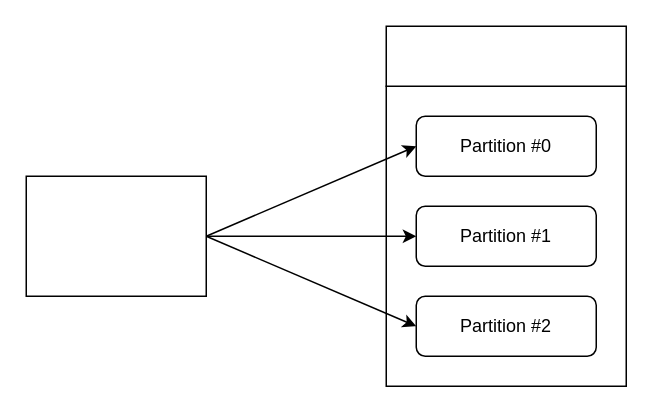
Image size: 653x413. Some labels were removed from this diagram. The centre of each missing label's shape, as x and y in pixels:
Producer: pixel 115 235
Topic A: pixel 505 55
